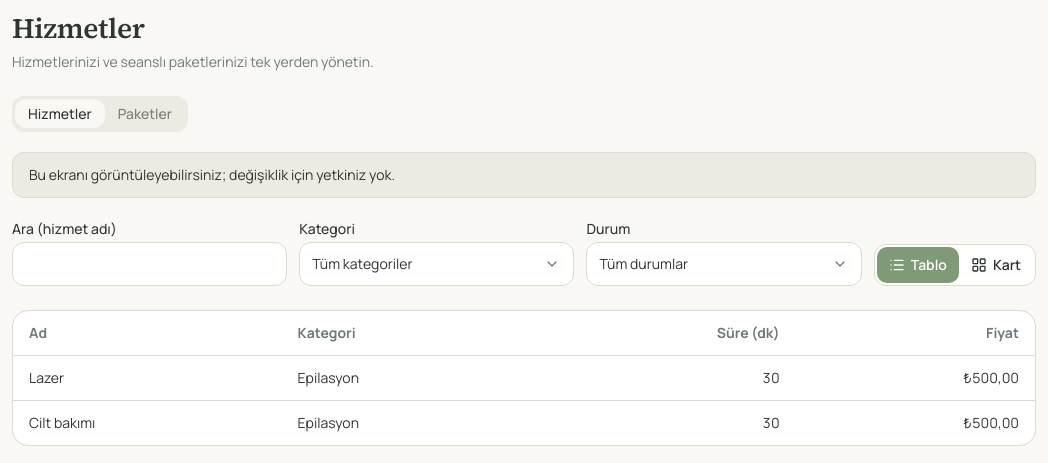
Test: paketler sekmesi › paketleri indirimiyle listeliyor
Click the tab "Paketler" at (145, 114), box [105,99,185,128]
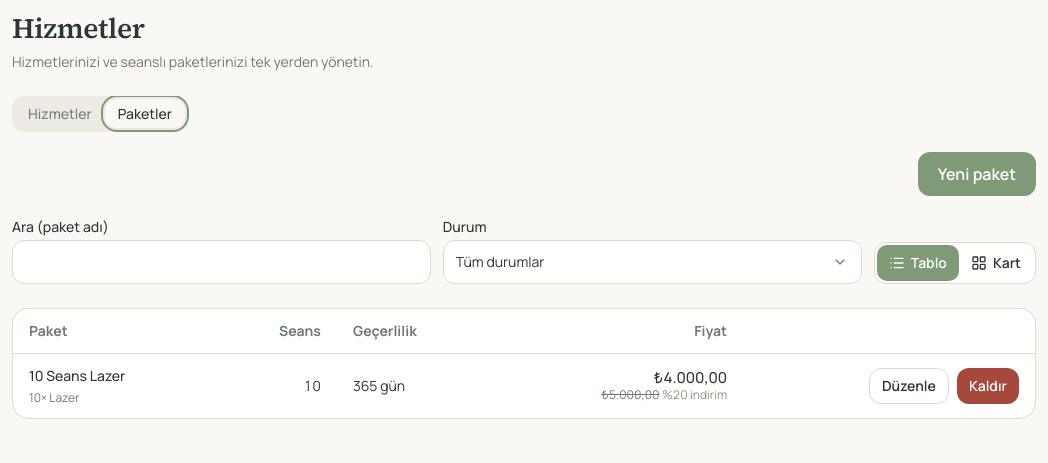
Expected: the text "10 Seans Lazer" is shown, [29,366,125,386]
Expected: the text "%20 indirim" is shown, [662,386,727,403]
